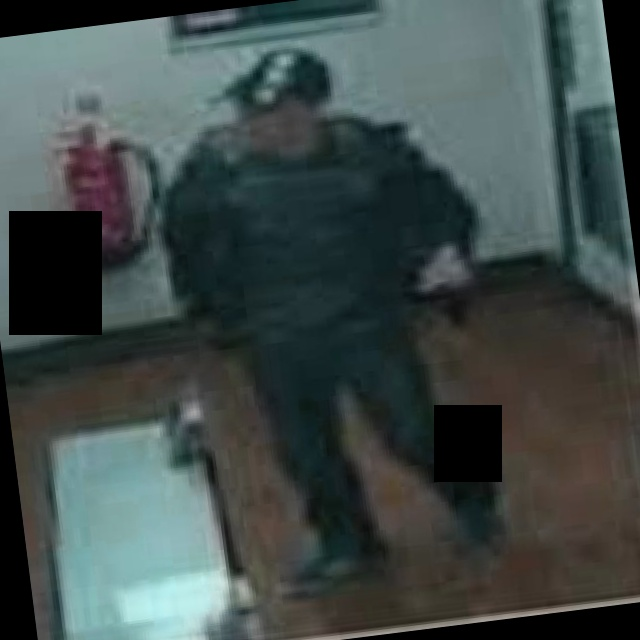gun: (416, 269, 489, 339)
